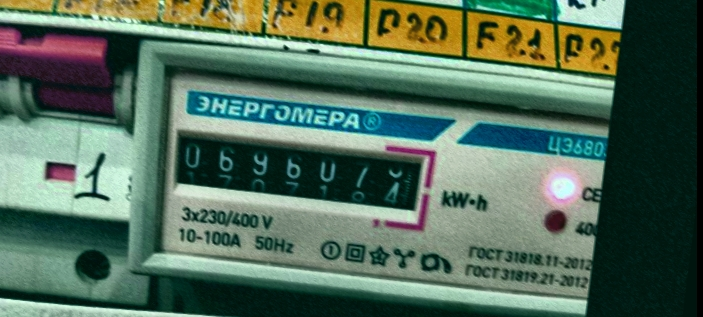0: (316, 152, 337, 184), (182, 140, 202, 169)
4: (381, 176, 401, 206)
6: (283, 149, 304, 180), (215, 143, 236, 173)
7: (349, 158, 372, 191)
9: (248, 147, 270, 177)
screen: (156, 113, 441, 231)
